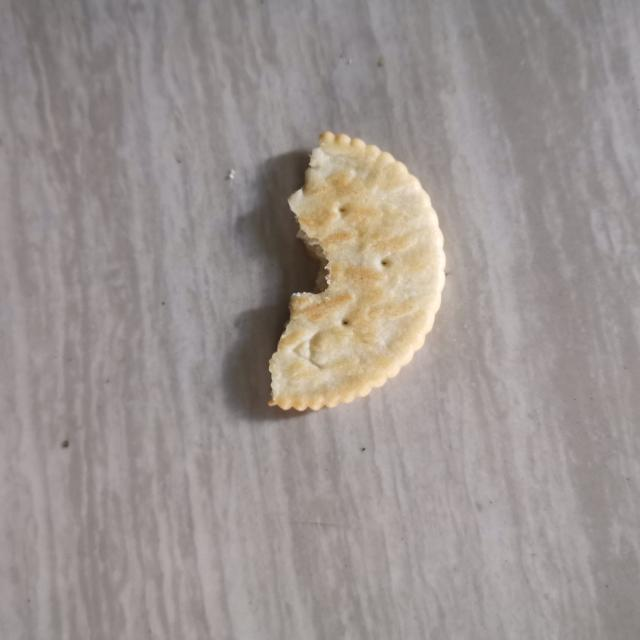Broken: (267, 130, 447, 413)
